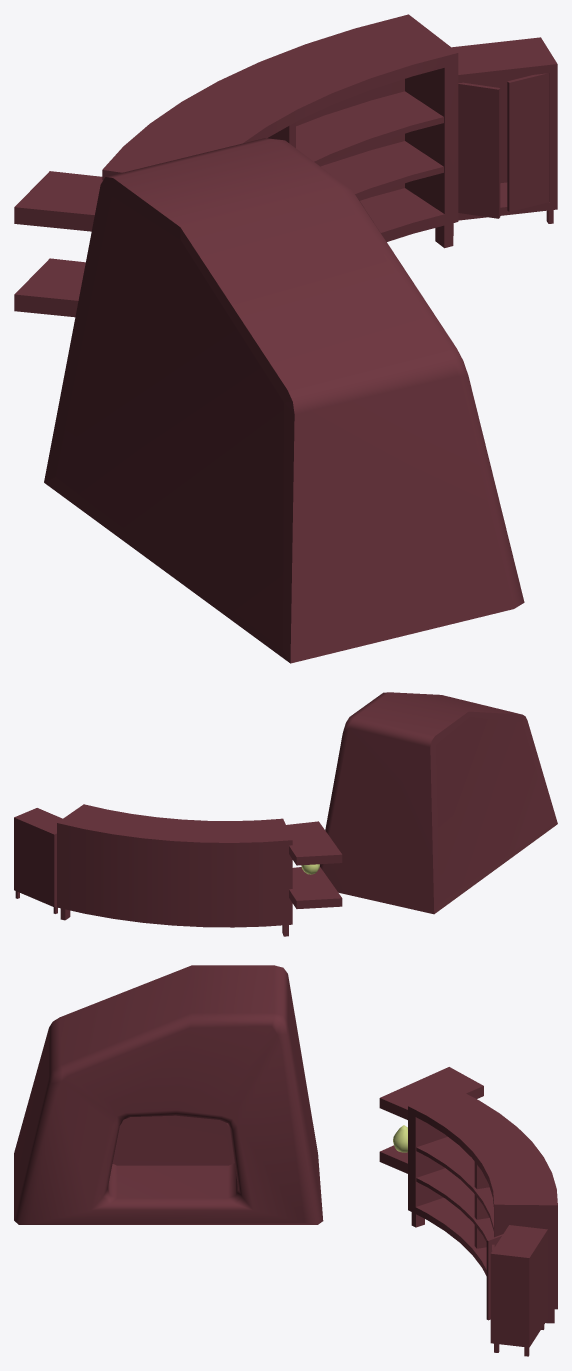
The model's file is Taller_greda_Muebles.fbx.
3 renders of one model, top to bottom at view 1: azimuth 30°, elevation 25°; view 2: azimuth 150°, elevation 25°; view 3: azimuth 270°, elevation 25°, orthographic. The views are drawn at different scales.
Visible parts, largest first — view 1: horno1; view 2: horno1; view 3: horno1.
Part boxes in pixels (bbox=[...]): horno1: bbox=[14, 14, 557, 663]; horno1: bbox=[14, 692, 557, 936]; horno1: bbox=[14, 965, 557, 1356].
Size of the model in its own units: 10.06 by 11.51 by 4.7.
